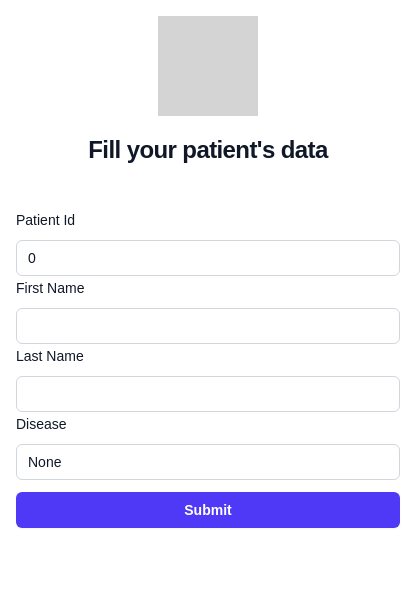
it: PatientForm › shows error on empty field
Click the button "Submit" at (208, 510), box [16,492,400,528]
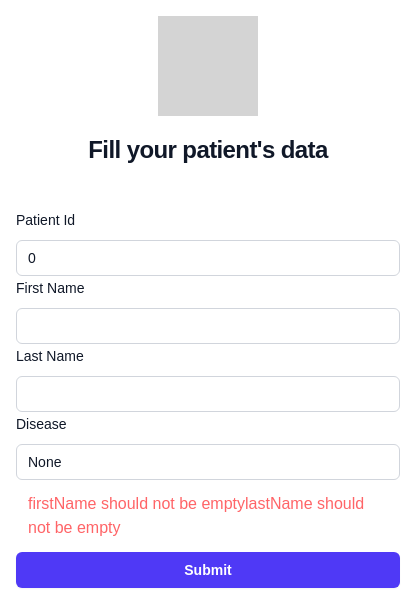
Check: the text "firstName should not be emptylastName should not be empty" is shown, box [28,492,388,540]
